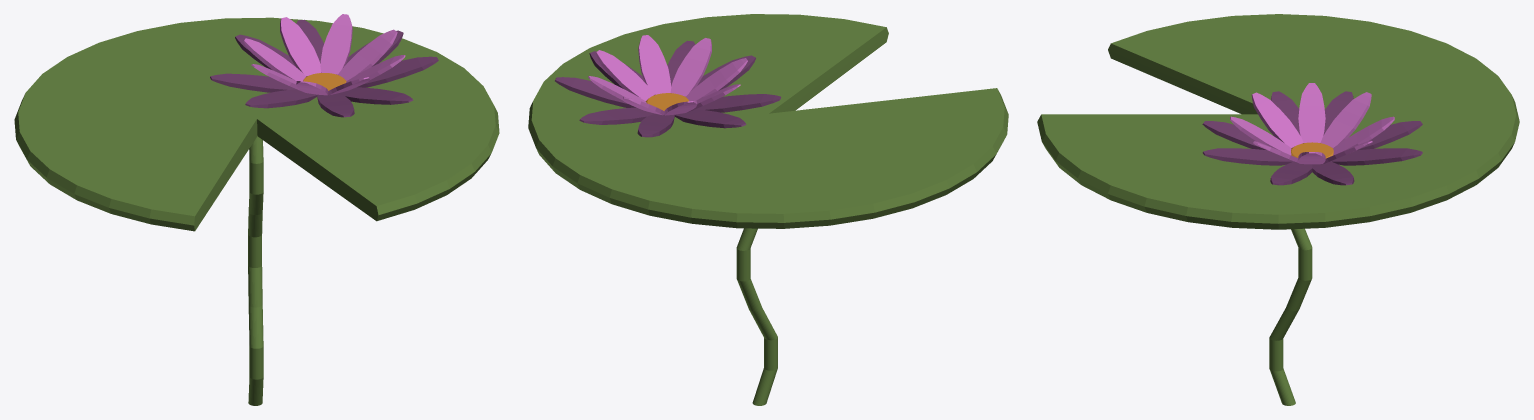
File: Unlilia wodnatitled.obj
3 views of the same model, side by side, from view 1: azimuth 30°, elevation 25°; view 2: azimuth 150°, elevation 25°; view 3: azimuth 270°, elevation 25° (orthographic).
Parts seen in each view (by area): view 1: Circle, Cube.001; view 2: Circle, Cube.001; view 3: Circle, Cube.001.
Part boxes in pixels (x1=…): Circle: x1=14, y1=17, x2=499, y2=405; Cube.001: x1=210, y1=14, x2=438, y2=117; Circle: x1=528, y1=14, x2=1008, y2=405; Cube.001: x1=555, y1=35, x2=781, y2=137; Circle: x1=1037, y1=14, x2=1519, y2=405; Cube.001: x1=1202, y1=83, x2=1422, y2=185.
Size of the model in its own units: 0.6679 by 0.4955 by 0.6679.
